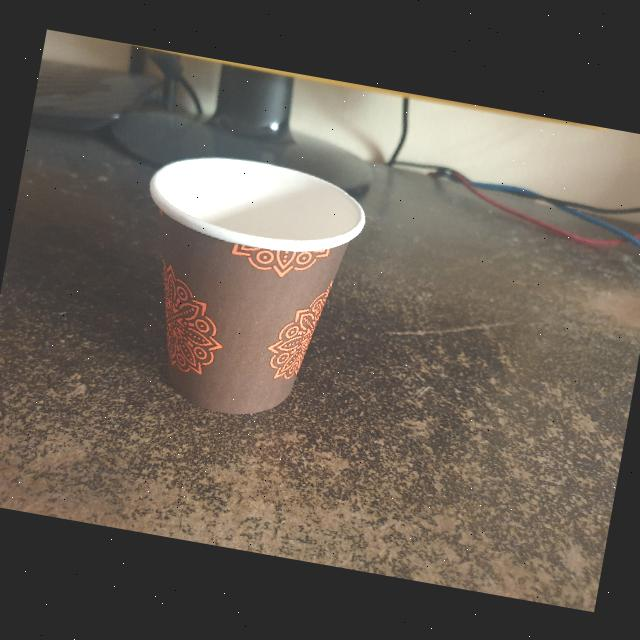trash: (105, 134, 381, 436)
